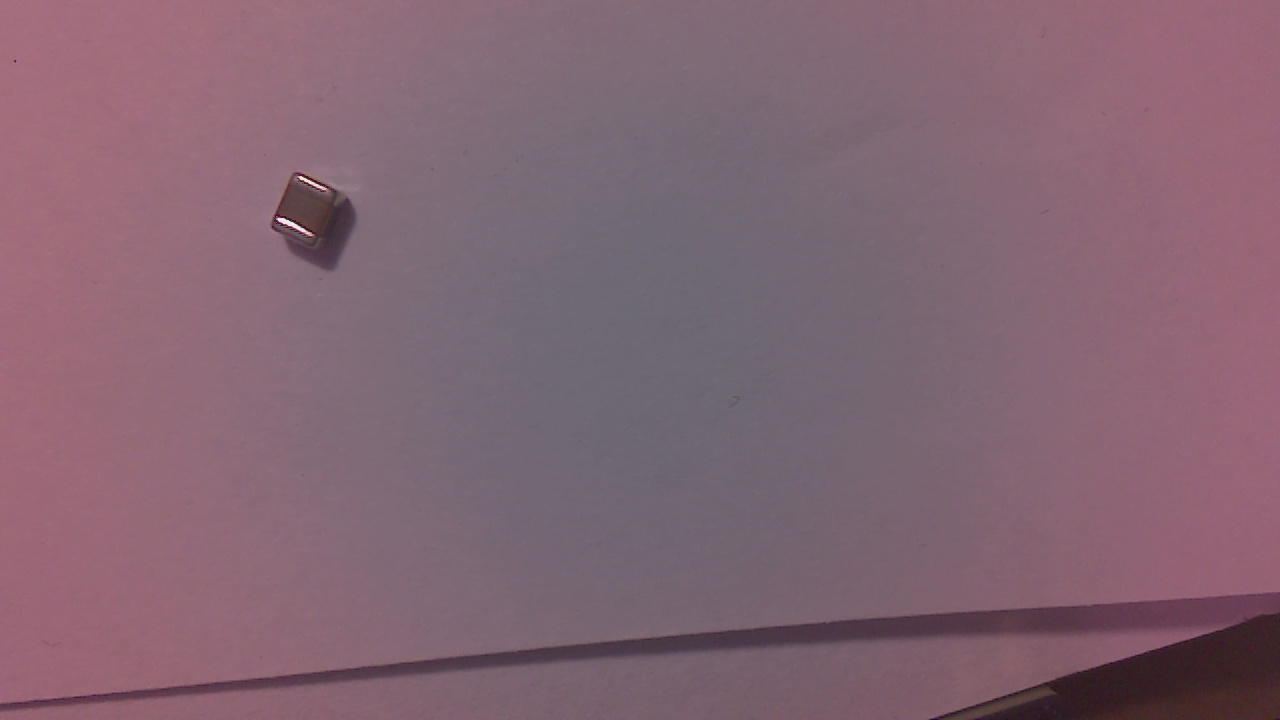Condensator: (270, 176, 355, 254)
